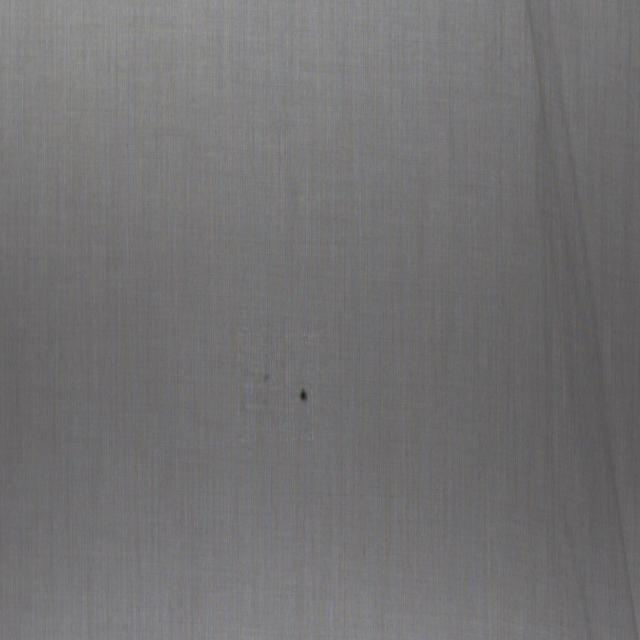dirty: (299, 388, 308, 402), (264, 374, 269, 382)
